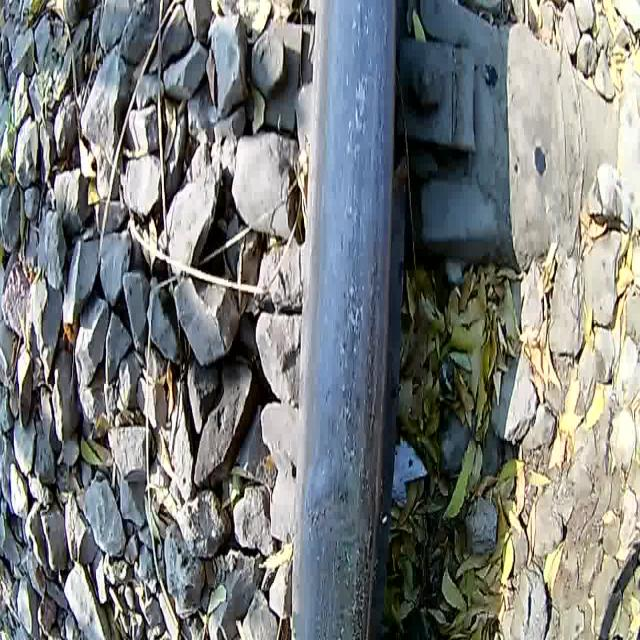Squats: (276, 0, 412, 640)
